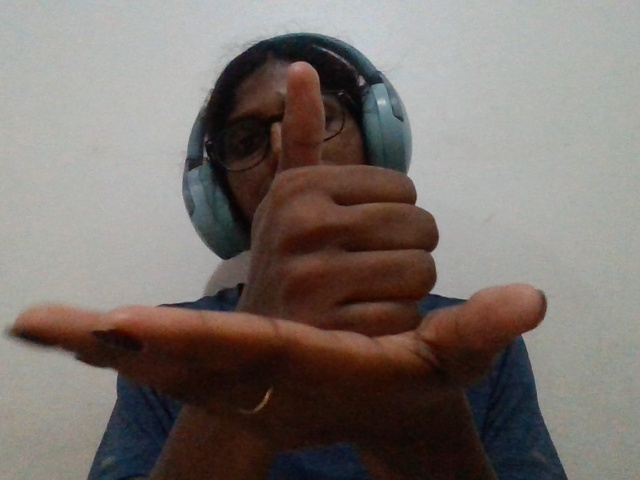Help: (1, 50, 600, 456)
